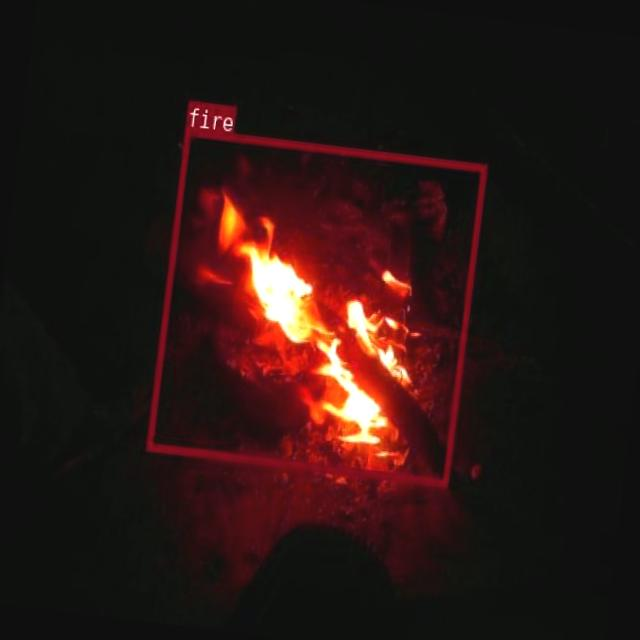fire: (146, 127, 486, 486)
